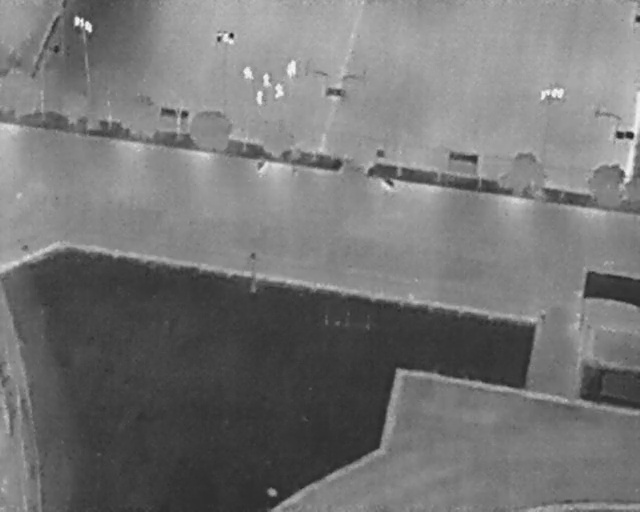Person: (243, 66, 255, 81), (275, 83, 284, 100), (262, 73, 271, 89), (255, 90, 264, 106), (290, 59, 297, 75), (286, 63, 293, 78)
